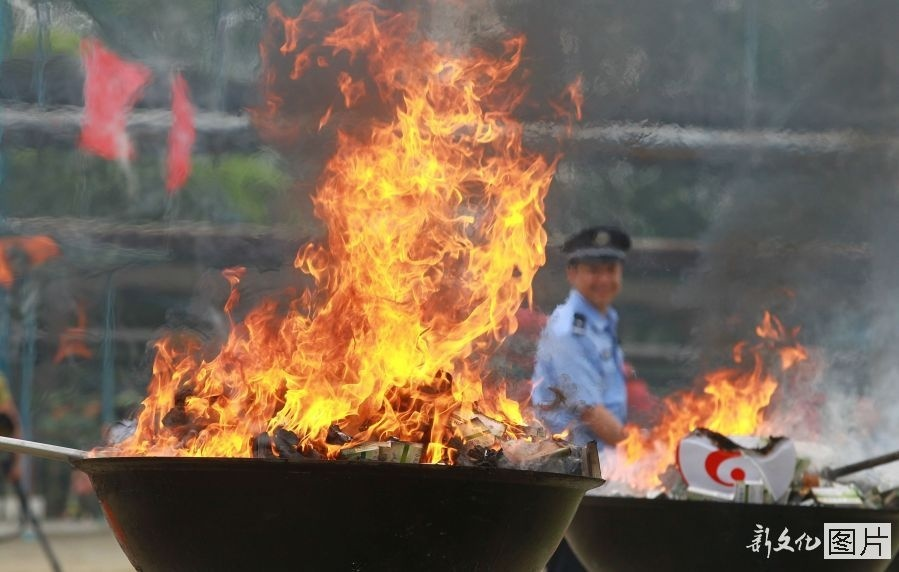fire: (79, 0, 589, 470), (607, 308, 811, 491)
